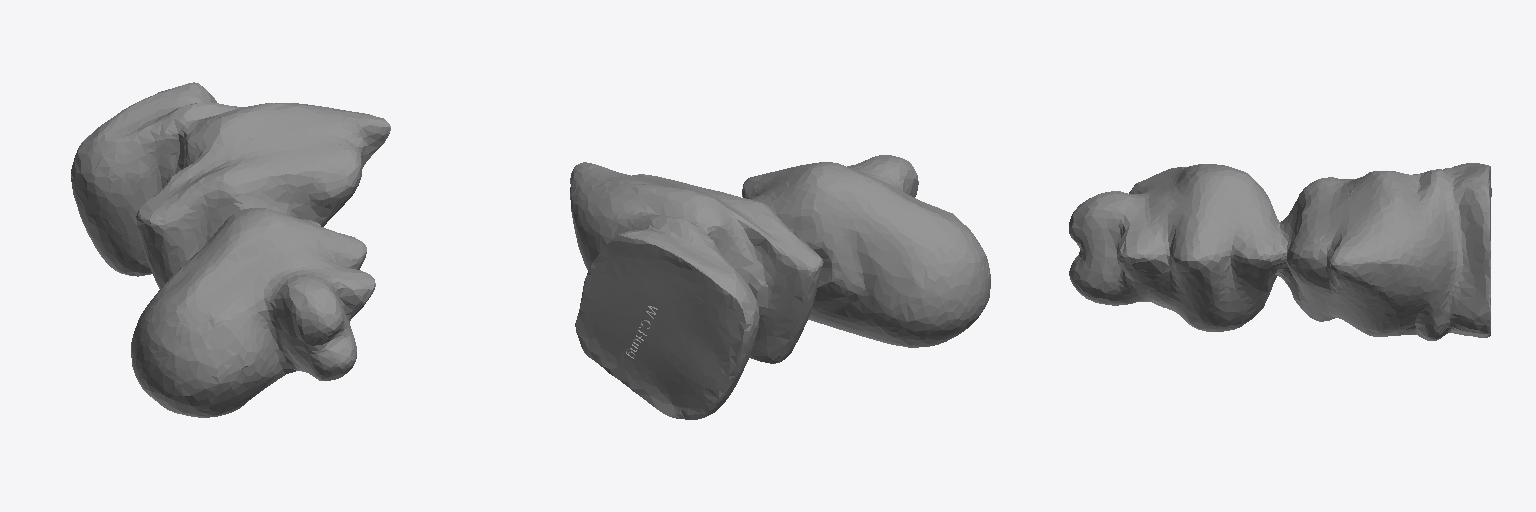
Rendered from Yashi.obj.
3 views of the same model, side by side, from view 1: azimuth 30°, elevation 25°; view 2: azimuth 150°, elevation 25°; view 3: azimuth 270°, elevation 25° (orthographic).
Parts seen in each view (by area): view 1: Foto3Dmesh; view 2: Foto3Dmesh; view 3: Foto3Dmesh.
Boxes of the visible parts, x1,y1,x2,y2 form: Foto3Dmesh: [71, 82, 390, 417]; Foto3Dmesh: [570, 155, 990, 419]; Foto3Dmesh: [1069, 163, 1491, 340].
Bounding box in the file's own units: 2226 × 1246 × 2499.